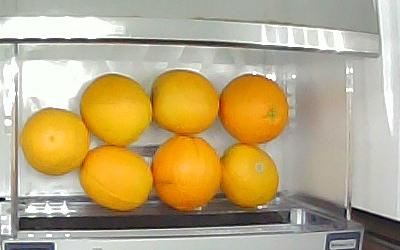orange: (153, 135, 221, 213), (80, 75, 152, 147), (221, 74, 289, 143), (82, 146, 153, 211), (21, 108, 90, 174), (152, 68, 221, 134), (220, 143, 280, 207)
